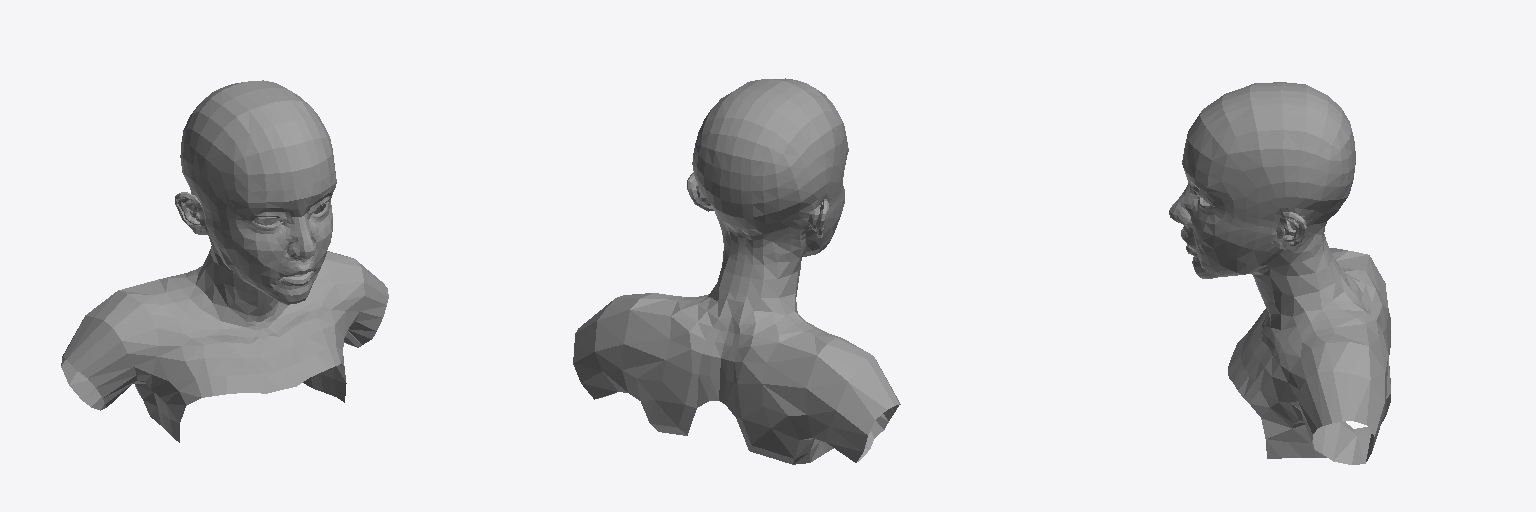
The model's file is FaceModel.obj.
3 renders of one model, left to right at view 1: azimuth 30°, elevation 25°; view 2: azimuth 150°, elevation 25°; view 3: azimuth 270°, elevation 25°, orthographic.
Visible parts, largest first — view 1: Lips_Plane.001; view 2: Lips_Plane.001; view 3: Lips_Plane.001.
Boxes of the visible parts, x1,y1,x2,y2 form: Lips_Plane.001: [61, 80, 388, 442]; Lips_Plane.001: [573, 78, 900, 464]; Lips_Plane.001: [1169, 82, 1390, 464].
Bounding box in the file's own units: 7.71 × 7.7 × 4.69.